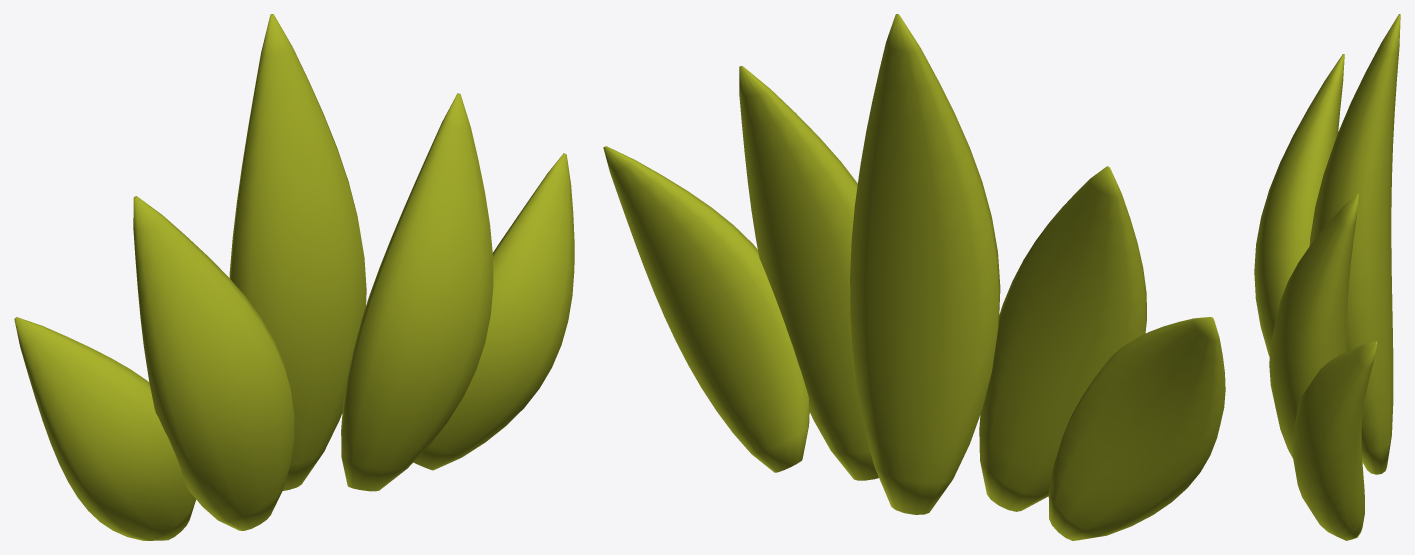
File: lime_leaf_clump.glb
3 views of the same model, side by side, from view 1: azimuth 30°, elevation 25°; view 2: azimuth 150°, elevation 25°; view 3: azimuth 270°, elevation 25° (orthographic). The views are drawn at different scales.
Parts seen in each view (by area): view 1: fleshy_leaf_2, fleshy_leaf_3, fleshy_leaf_1, fleshy_leaf_0, fleshy_leaf_4; view 2: fleshy_leaf_2, fleshy_leaf_1, fleshy_leaf_4, fleshy_leaf_3, fleshy_leaf_0; view 3: fleshy_leaf_2, fleshy_leaf_4, fleshy_leaf_3, fleshy_leaf_1.
Boxes of the visible parts, x1=… form: fleshy_leaf_2: x1=229, y1=14, x2=366, y2=490; fleshy_leaf_3: x1=341, y1=93, x2=493, y2=491; fleshy_leaf_1: x1=133, y1=196, x2=294, y2=530; fleshy_leaf_0: x1=14, y1=317, x2=196, y2=540; fleshy_leaf_4: x1=413, y1=153, x2=574, y2=470; fleshy_leaf_2: x1=850, y1=14, x2=1000, y2=514; fleshy_leaf_1: x1=979, y1=166, x2=1146, y2=511; fleshy_leaf_4: x1=603, y1=146, x2=809, y2=472; fleshy_leaf_3: x1=739, y1=66, x2=878, y2=480; fleshy_leaf_0: x1=1048, y1=317, x2=1225, y2=540; fleshy_leaf_2: x1=1309, y1=14, x2=1400, y2=474; fleshy_leaf_4: x1=1291, y1=341, x2=1377, y2=540; fleshy_leaf_3: x1=1269, y1=193, x2=1358, y2=457; fleshy_leaf_1: x1=1254, y1=54, x2=1344, y2=356.
Bounding box in the file's own units: 0.6797 × 0.55 × 0.1586.
